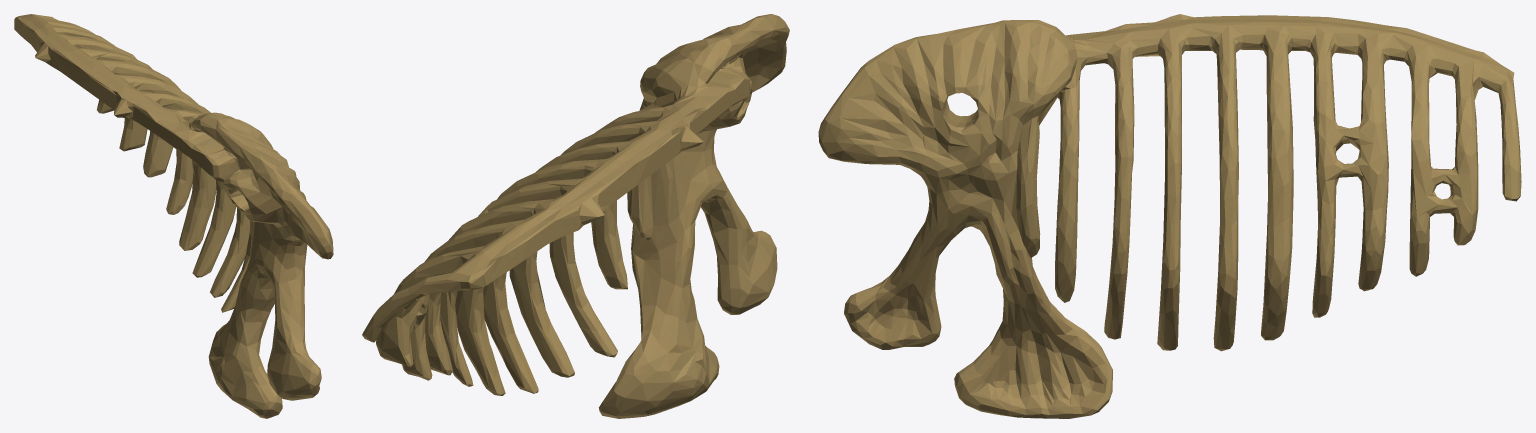
Rendered from bone4.glb.
3 views of the same model, side by side, from view 1: azimuth 30°, elevation 25°; view 2: azimuth 150°, elevation 25°; view 3: azimuth 270°, elevation 25° (orthographic). The views are drawn at different scales.
Parts seen in each view (by area): view 1: tripo_part_1; view 2: tripo_part_1; view 3: tripo_part_1.
Part boxes in pixels (bbox=[...]): tripo_part_1: bbox=[14, 14, 333, 418]; tripo_part_1: bbox=[362, 14, 789, 418]; tripo_part_1: bbox=[818, 14, 1521, 418].
Bounding box in the file's own units: 0.2991 × 0.5655 × 0.9795.
Materials: 11 (11 with a texture image).
